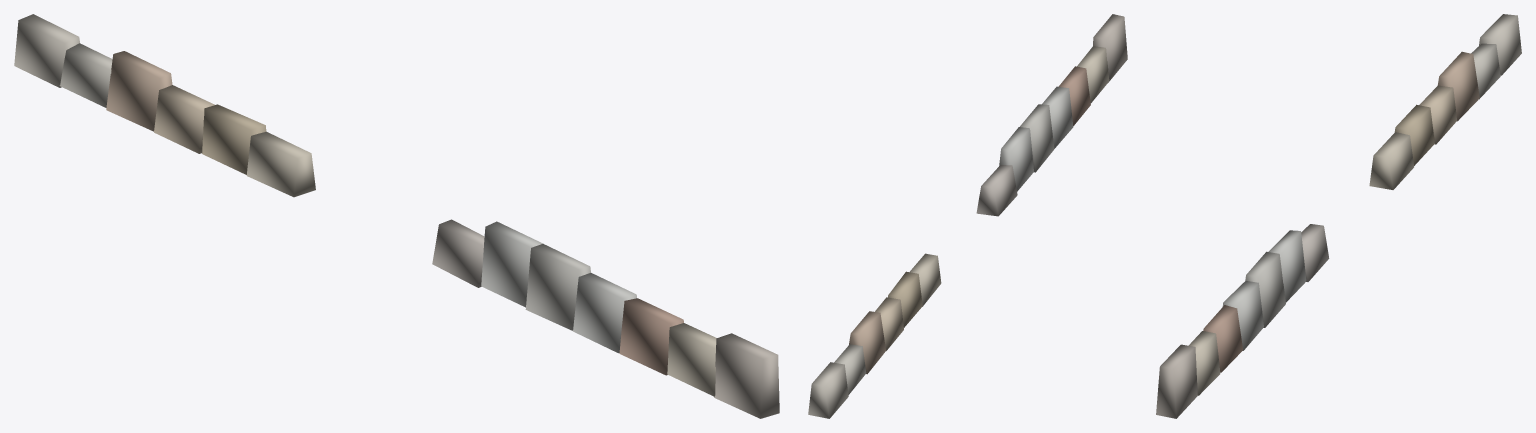
File: farm_0_16_far.glb
3 views of the same model, side by side, from view 1: azimuth 30°, elevation 25°; view 2: azimuth 150°, elevation 25°; view 3: azimuth 330°, elevation 25° (orthographic). The views are drawn at different scales.
Parts seen in each view (by area): view 1: geometry_0; view 2: geometry_0; view 3: geometry_0.
Part boxes in pixels (x1,y1,x2,y2): geometry_0: (14, 14, 779, 418); geometry_0: (808, 14, 1127, 418); geometry_0: (1156, 14, 1521, 418).
Bounding box in the file's own units: 4.75 × 2.05 × 24.96.
